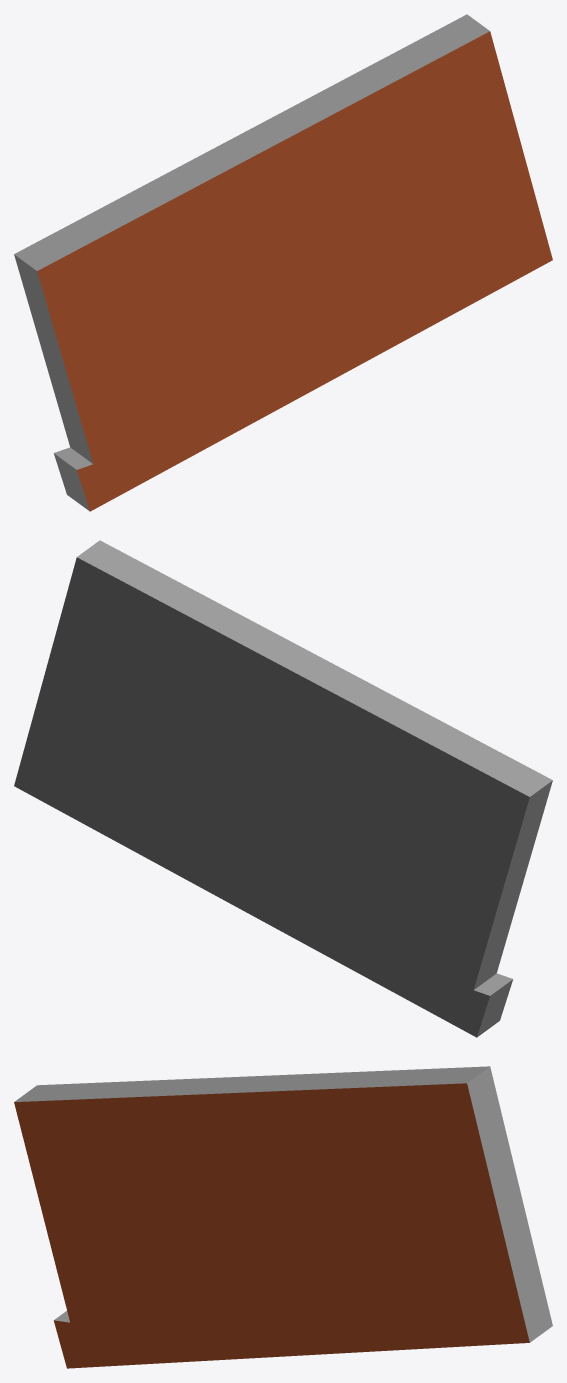
The model's file is construction_3029_assumed_A_Casa_h6m.obj.
3 views of the same model, one above another, from view 1: azimuth 30°, elevation 25°; view 2: azimuth 150°, elevation 25°; view 3: azimuth 330°, elevation 25° (orthographic).
Parts seen in each view (by area): view 1: construction_3029_assumed_A_Casa; view 2: construction_3029_assumed_A_Casa; view 3: construction_3029_assumed_A_Casa.
Part boxes in pixels (bbox=[...]): construction_3029_assumed_A_Casa: bbox=[14, 14, 552, 511]; construction_3029_assumed_A_Casa: bbox=[14, 540, 552, 1037]; construction_3029_assumed_A_Casa: bbox=[14, 1066, 552, 1368].
Bounding box in the file's own units: 77.23 × 54.78 × 6.
